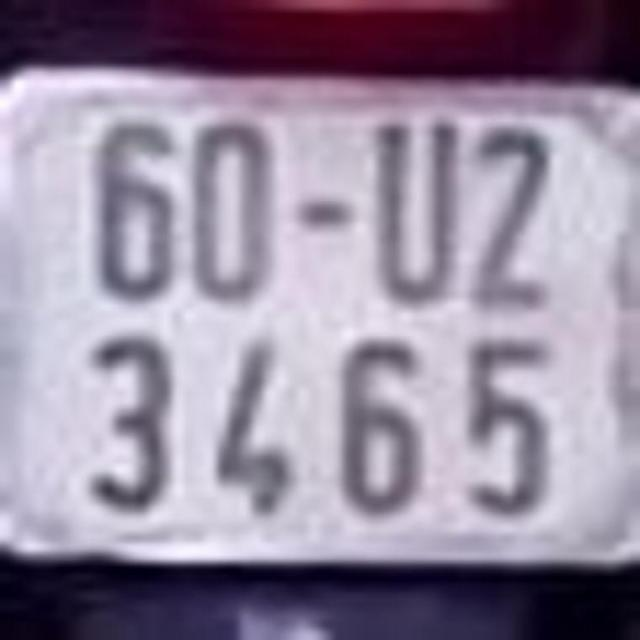0: (191, 125, 275, 298)
2: (467, 124, 549, 316)
3: (82, 332, 177, 526)
4: (203, 338, 296, 520)
5: (461, 326, 567, 536)
6: (338, 330, 434, 522), (96, 123, 183, 304)
U: (374, 117, 461, 304)
